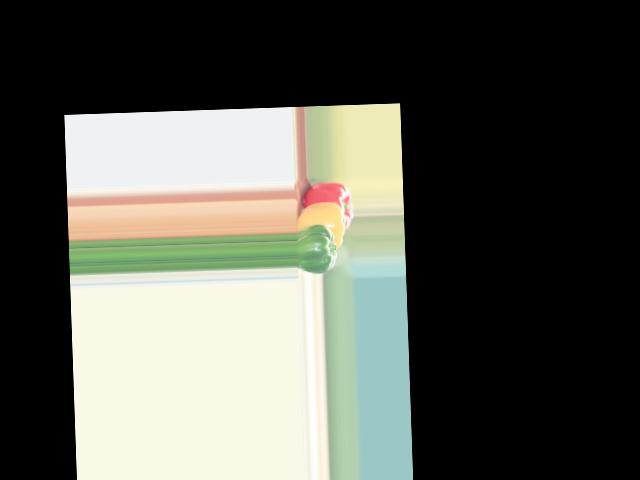bell_pepper: (296, 182, 353, 231)
